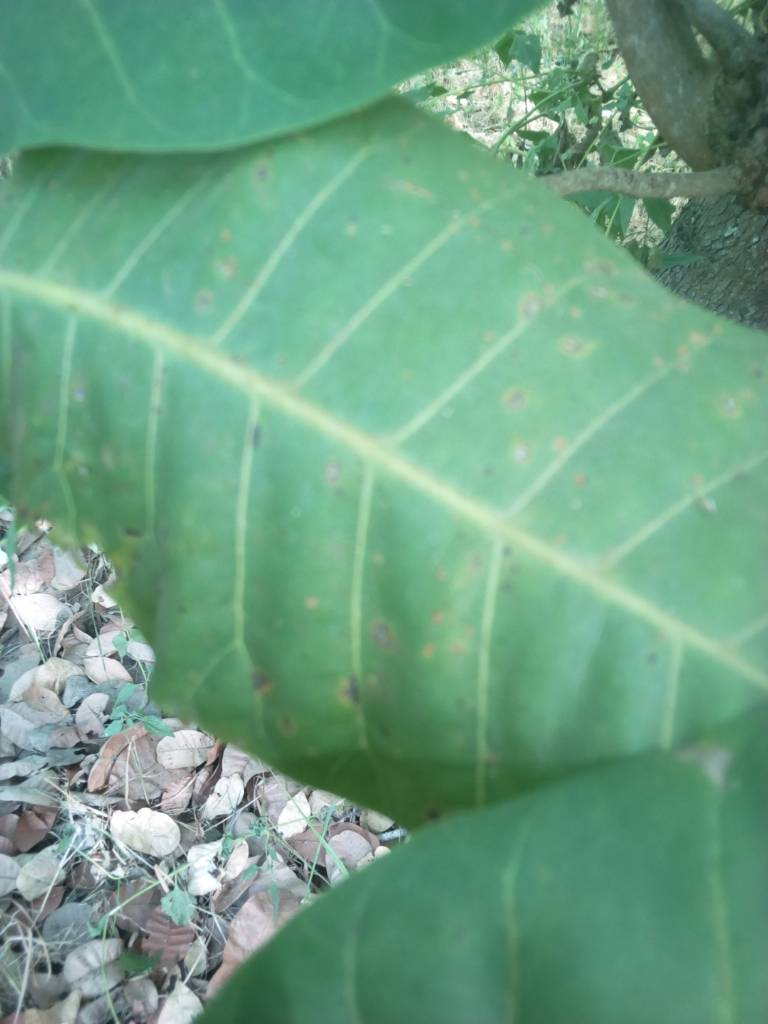Pestalotiose: (144, 161, 768, 750)
